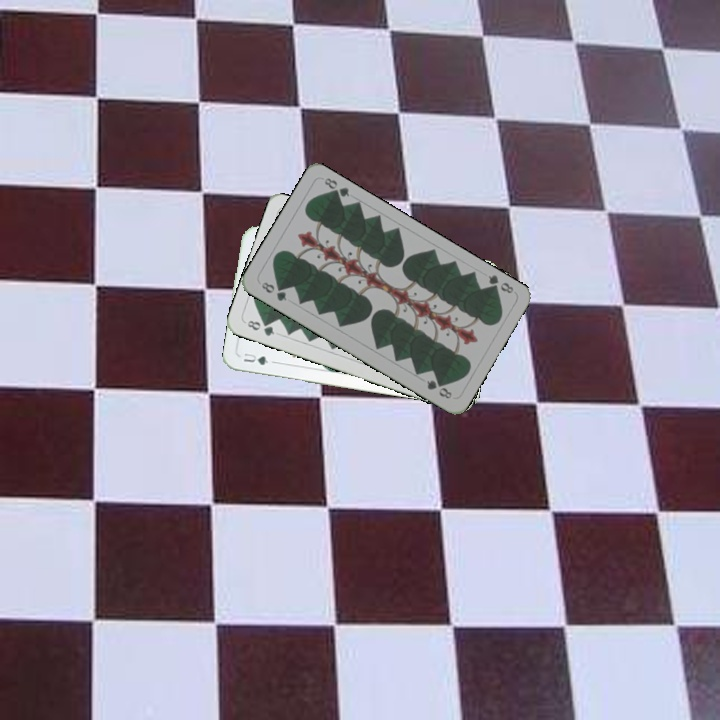G8: (257, 278, 289, 304), (241, 316, 277, 339), (484, 271, 516, 296)
GU: (240, 349, 277, 368)
